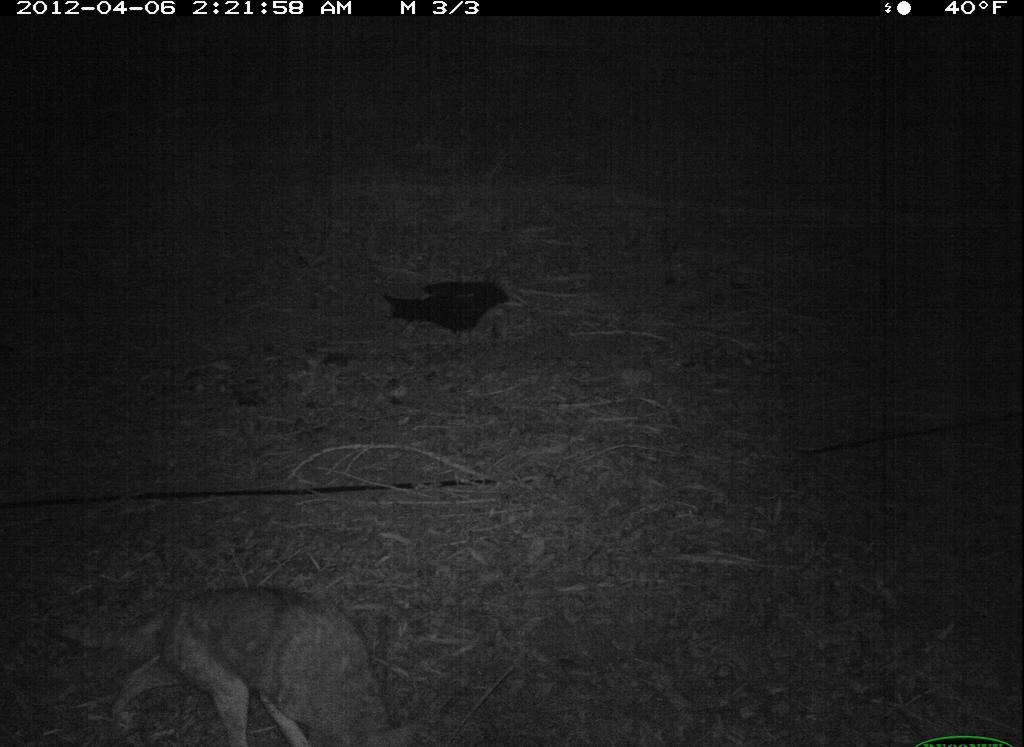coyote: (41, 577, 432, 747)
